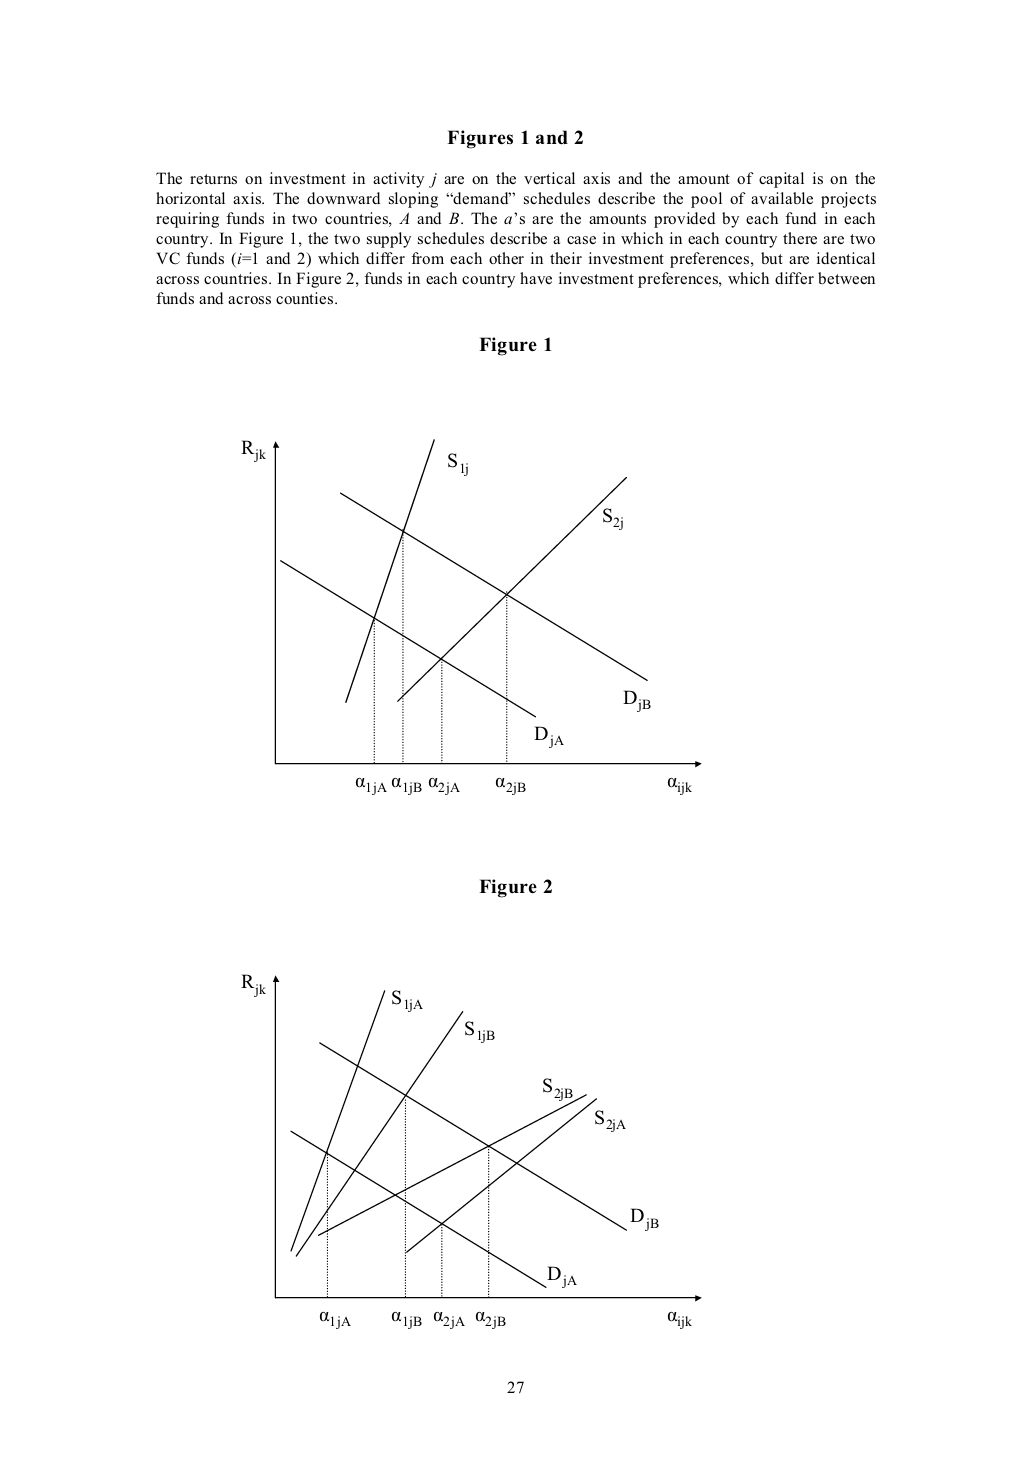figure: (241, 439, 701, 794), (241, 974, 701, 1328)
